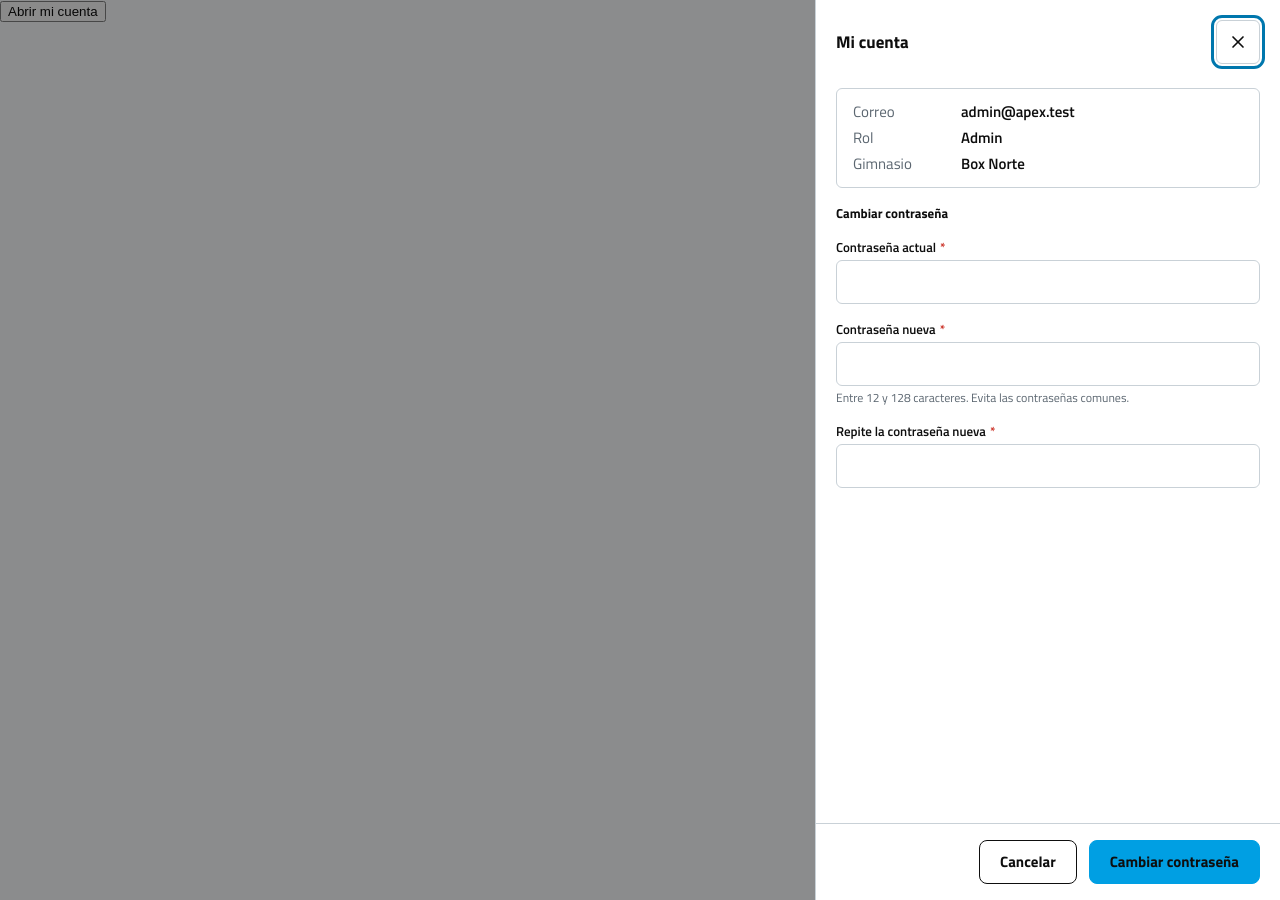
ChangePasswordPanel · validación (Zod) › una nueva de menos de 12 caracteres se rechaza antes de enviar
Type "Clave-inicial-2026" into the password field labelled "Contraseña actual*" at coordinates (1048, 282), box [836,260,1260,304]
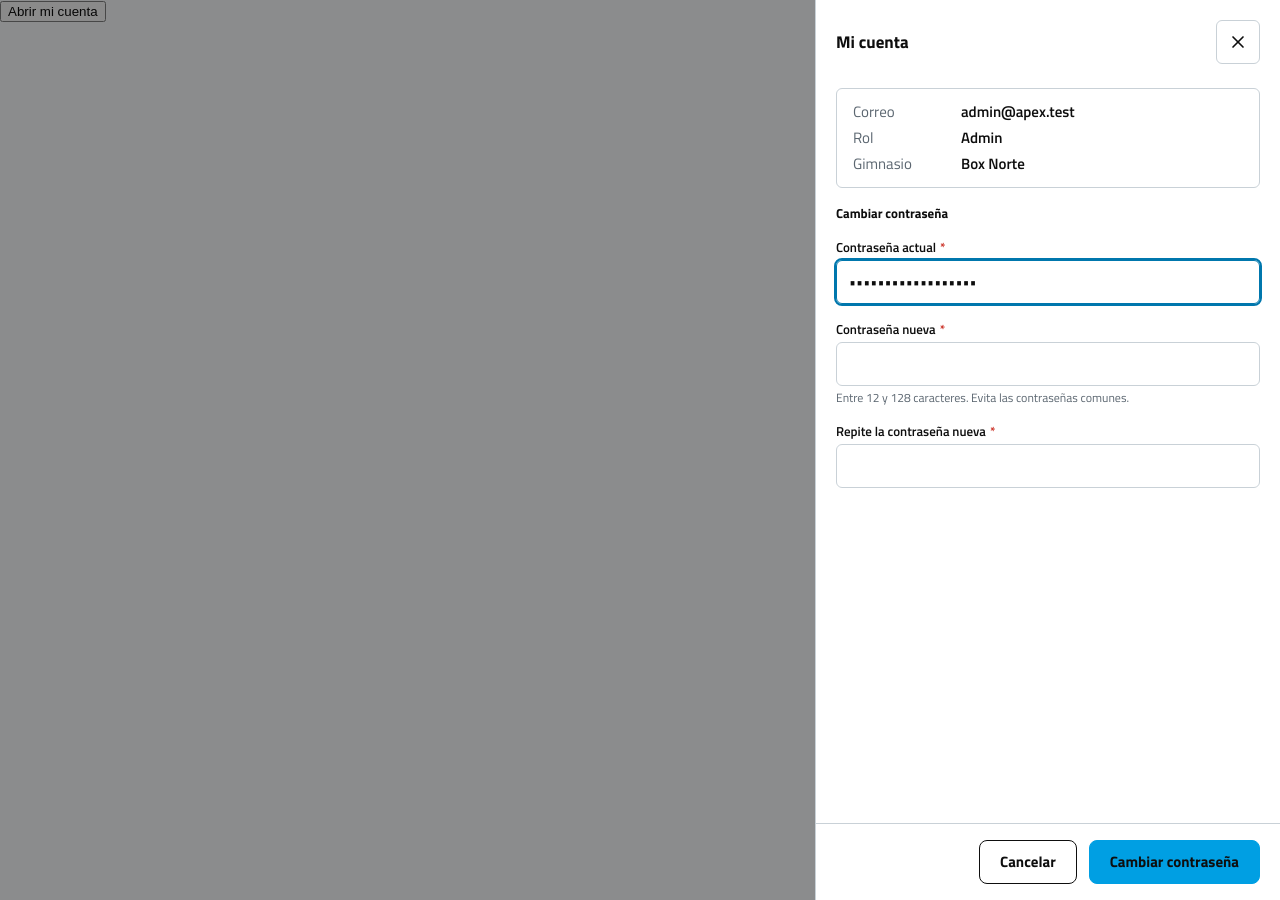
Type "corta-123" into the password field labelled "Contraseña nueva*" at coordinates (1048, 364), box [836,342,1260,386]
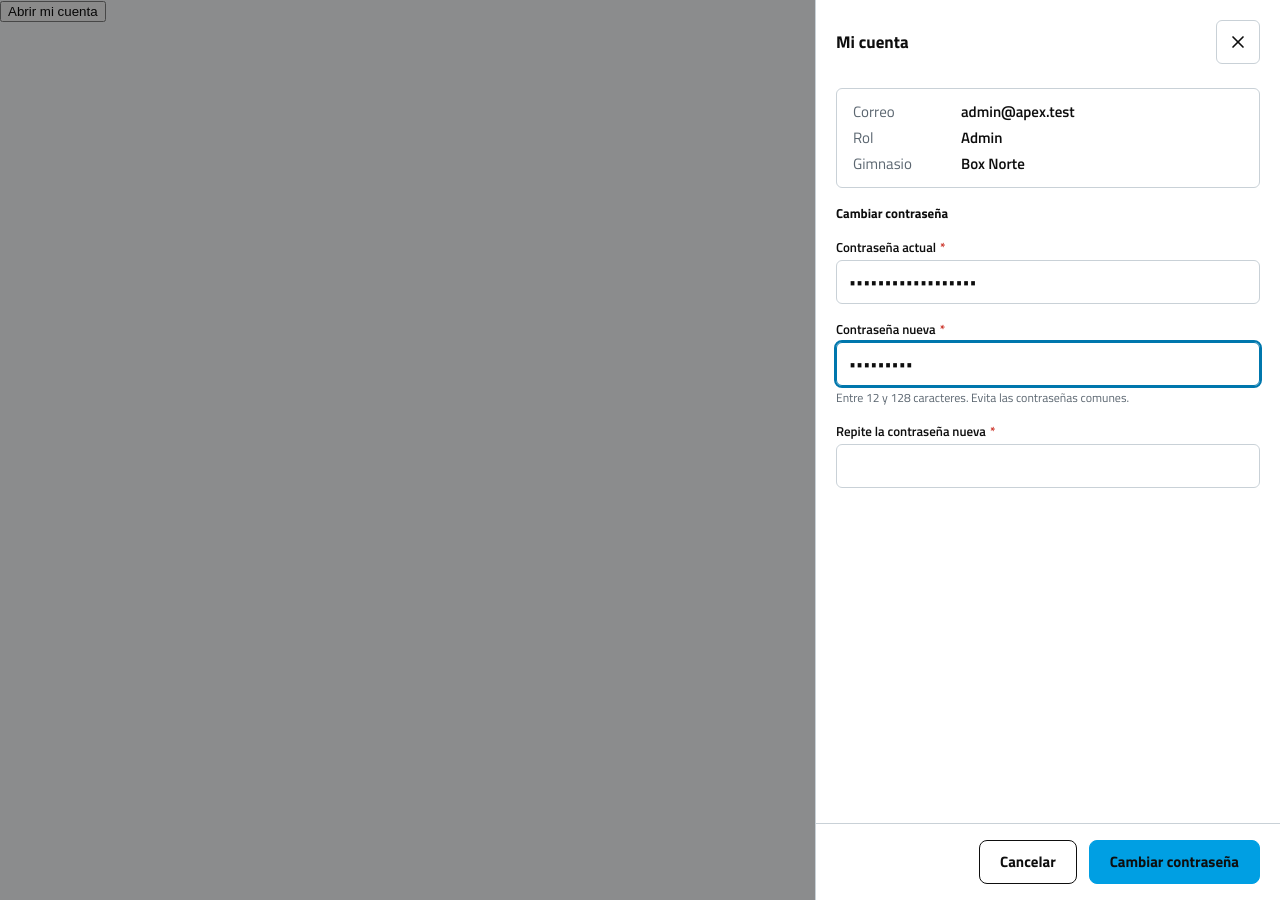
Type "corta-123" into the password field labelled "Repite la contraseña nueva*" at coordinates (1048, 466), box [836,444,1260,488]
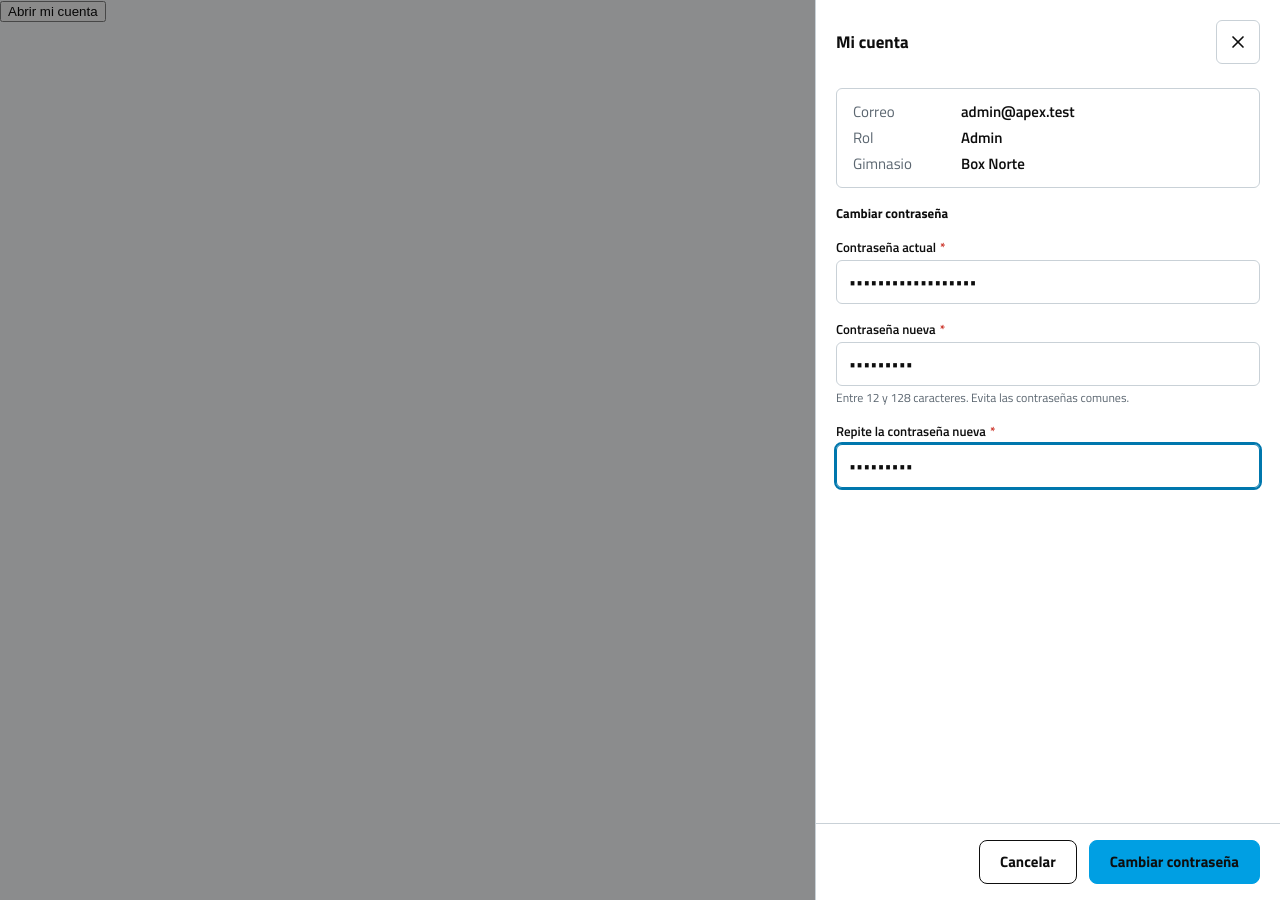
Click the button "Cambiar contraseña" at coordinates (1174, 862), box [1089,840,1260,884]
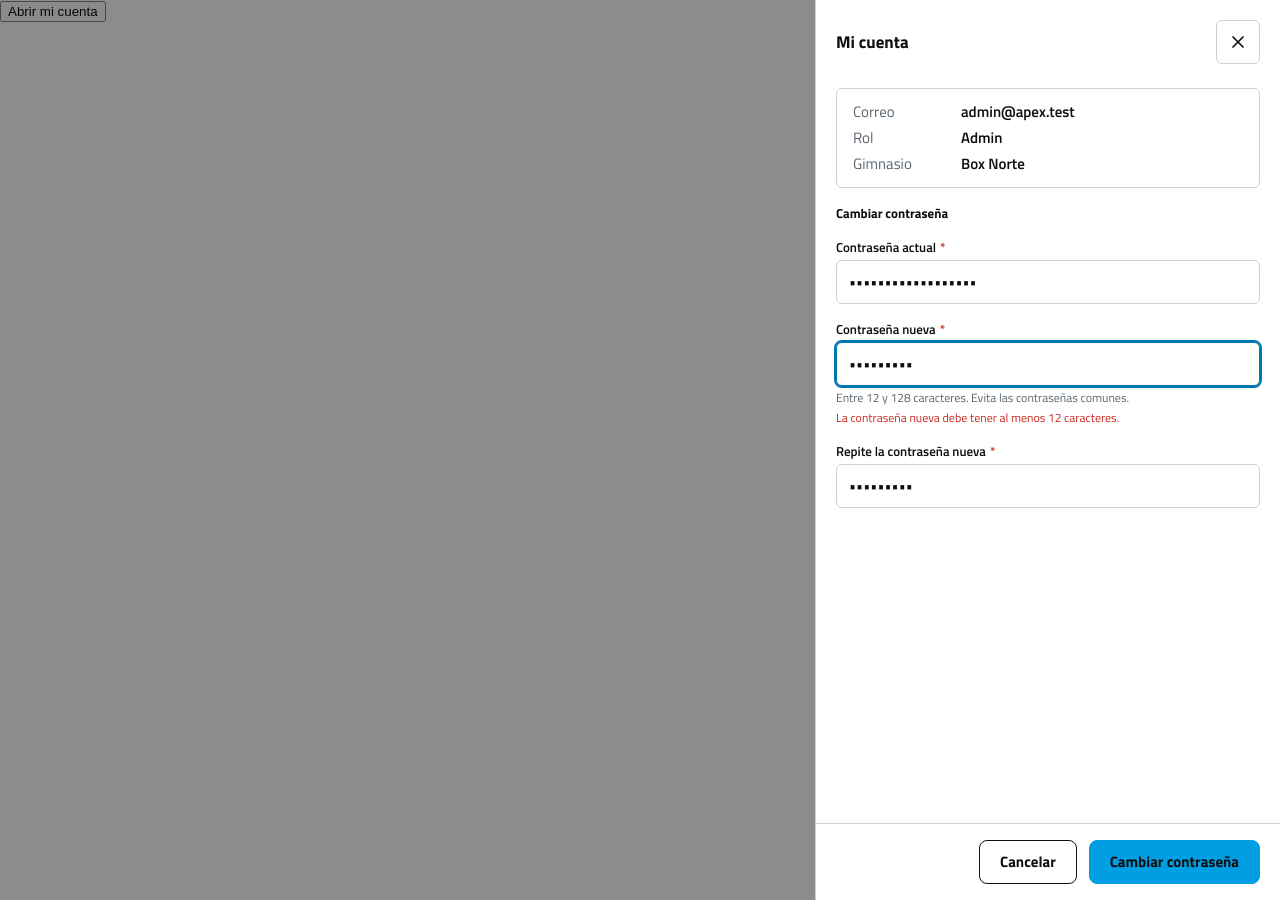
Check: the text "La contraseña nueva debe tener al menos 12 caracteres." is shown, box [836,408,1119,427]
